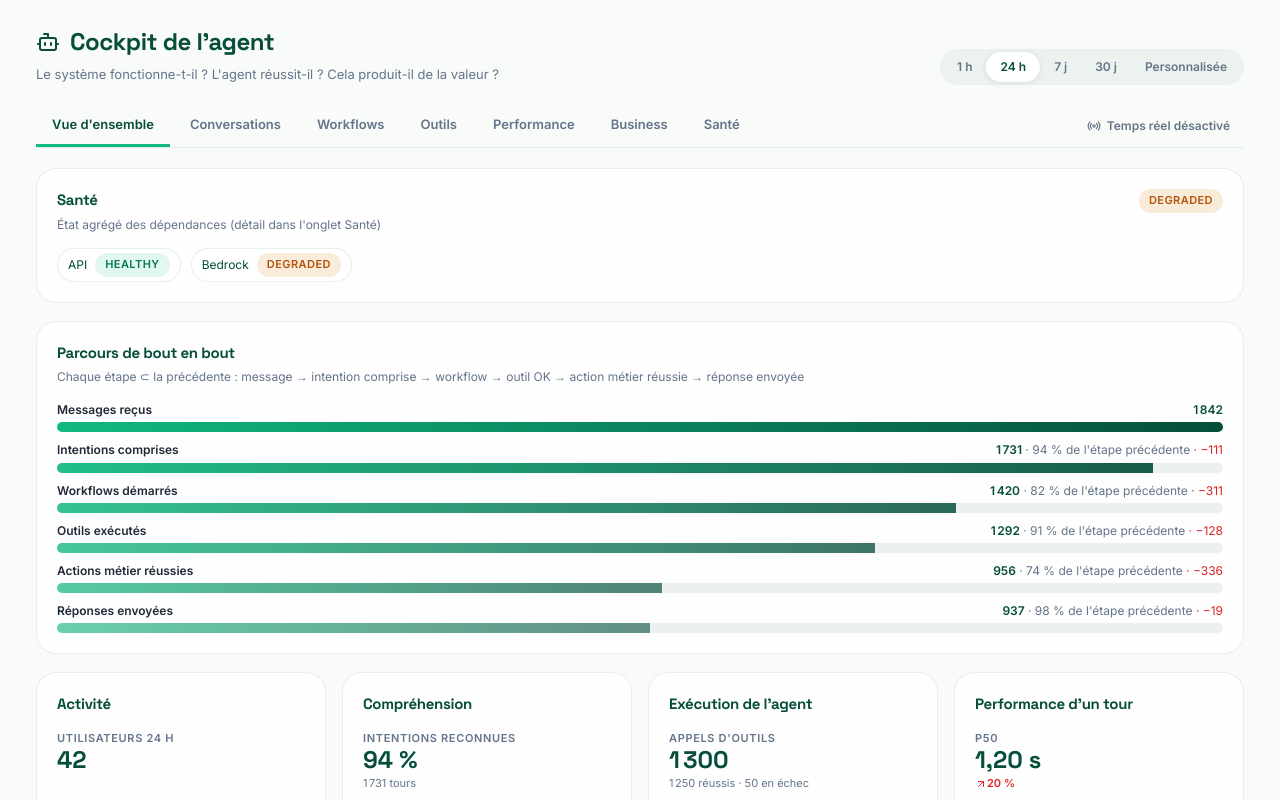
Test case: Conversations › drill-down : la timeline montre message → intent → outils → résultat métier → réponse, avec durées et lien de trace
The width and height of the screenshot is (1280, 800).
Expected: the list with test id "funnel" is shown, [57, 400, 1223, 633]
Click the tab "Conversations": (235, 126) [174, 105, 297, 147]
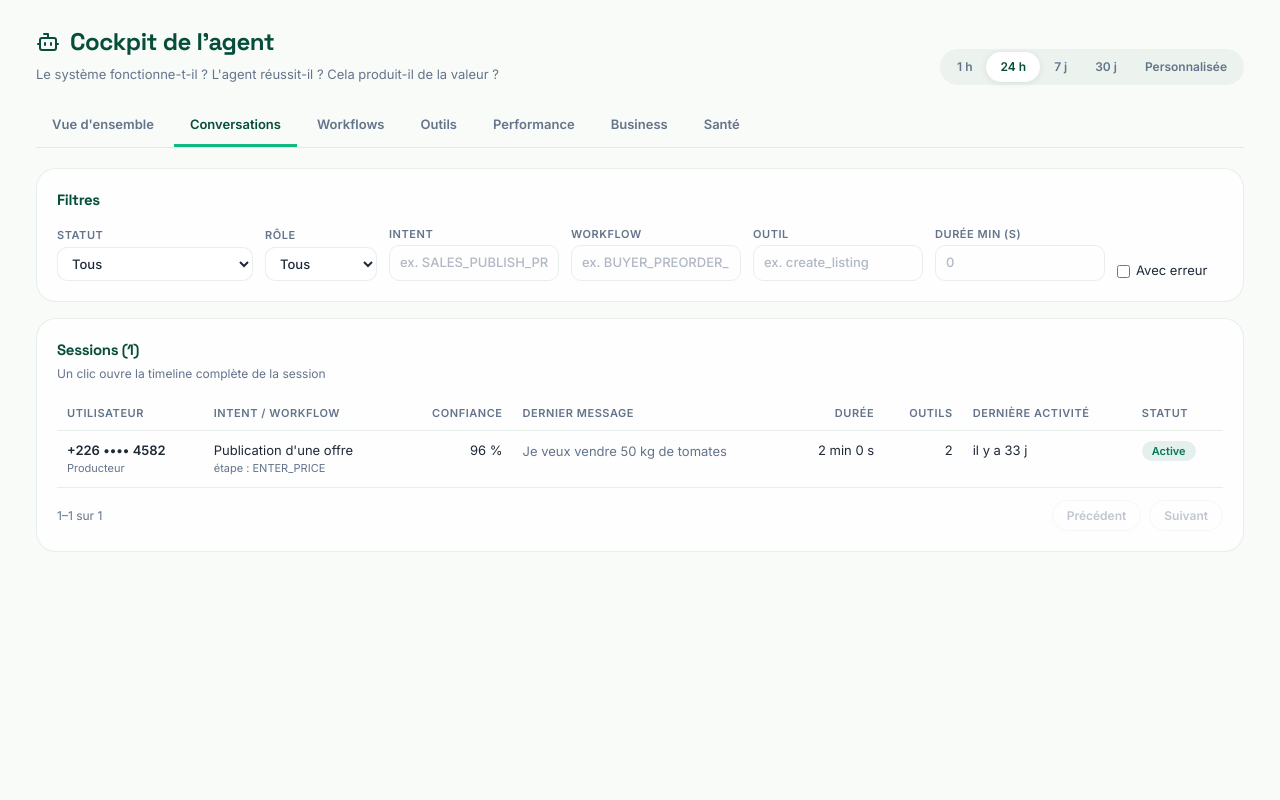
Click the text "+226 •••• 4582": (116, 450) [67, 442, 166, 458]
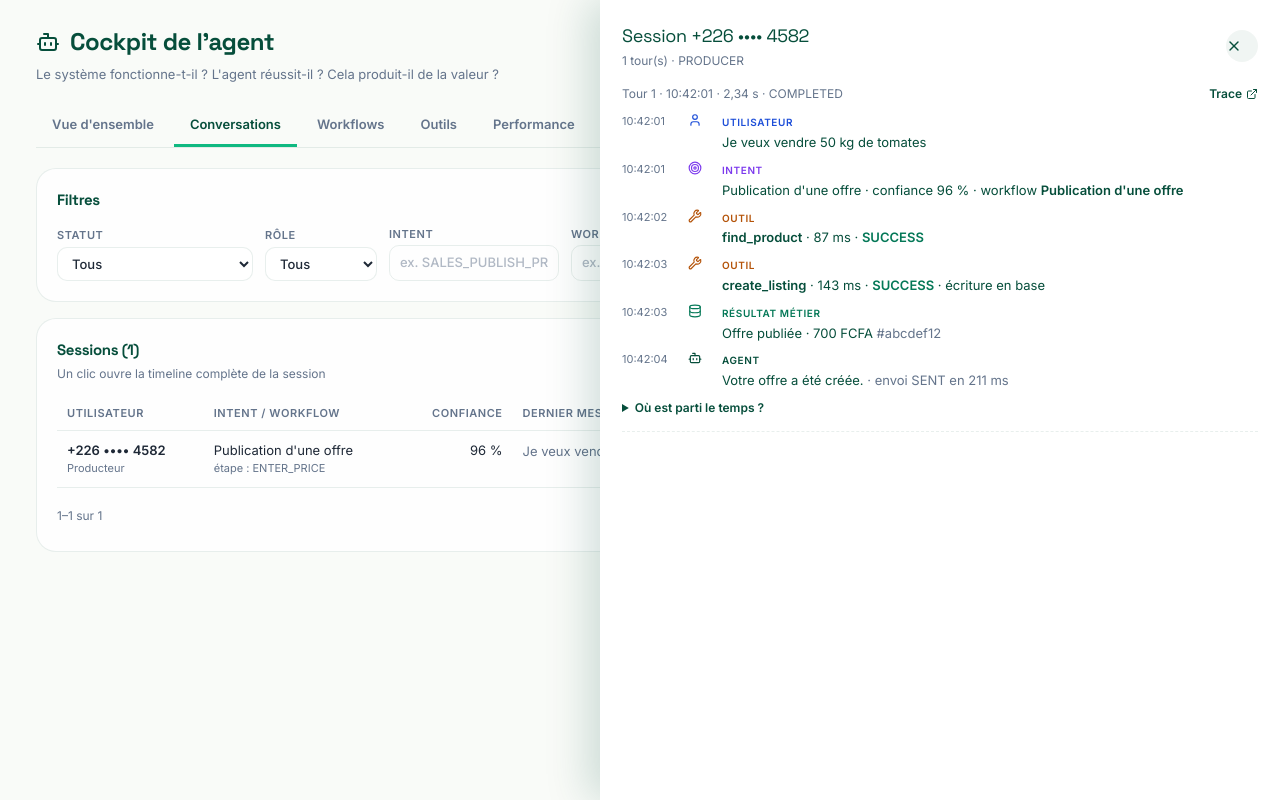
Now the text "find_product" is shown, box [722, 229, 802, 245]
Now the dialog with test id "session-drawer" shows "UTILISATEUR", box [722, 116, 793, 128]
Now the dialog with test id "session-drawer" shows "INTENT", box [722, 164, 763, 176]
Click the button named "Fermer": (1242, 46) [1226, 30, 1258, 62]
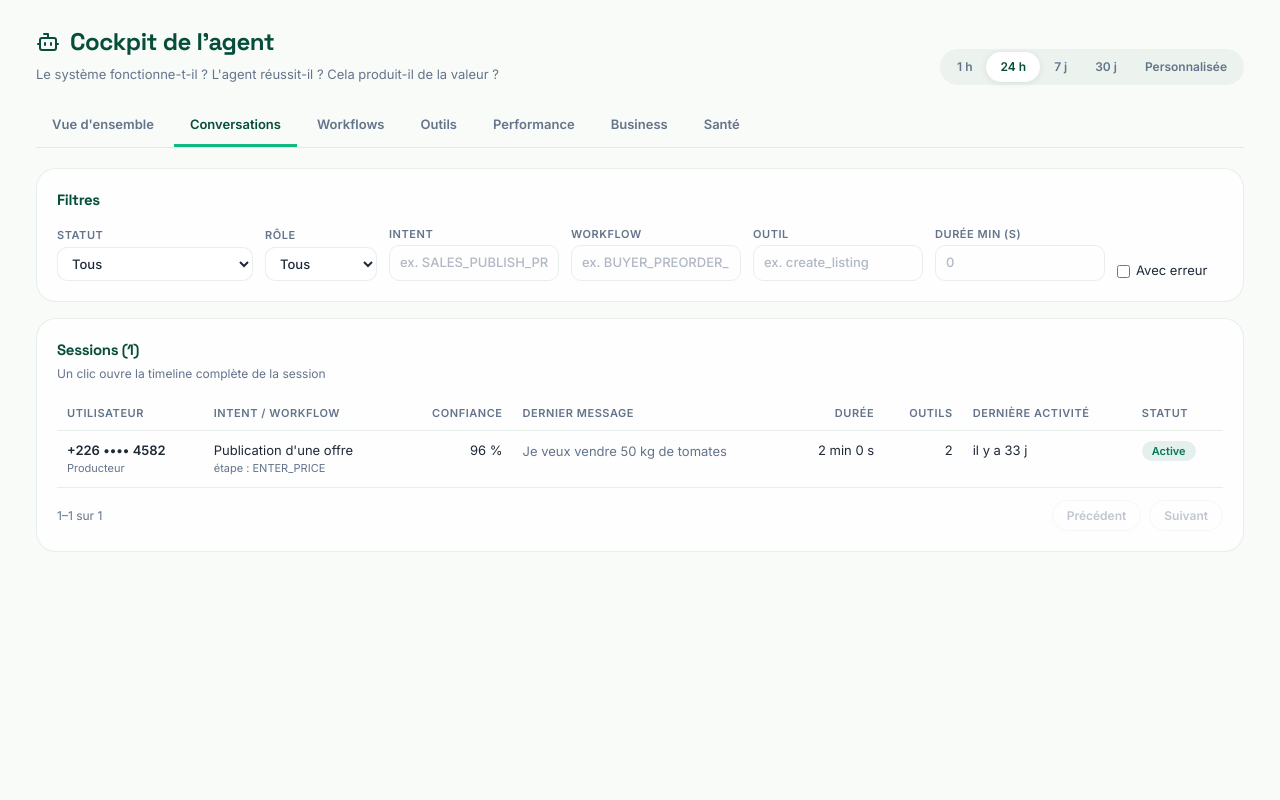
Now the dialog with test id "session-drawer" is gone
